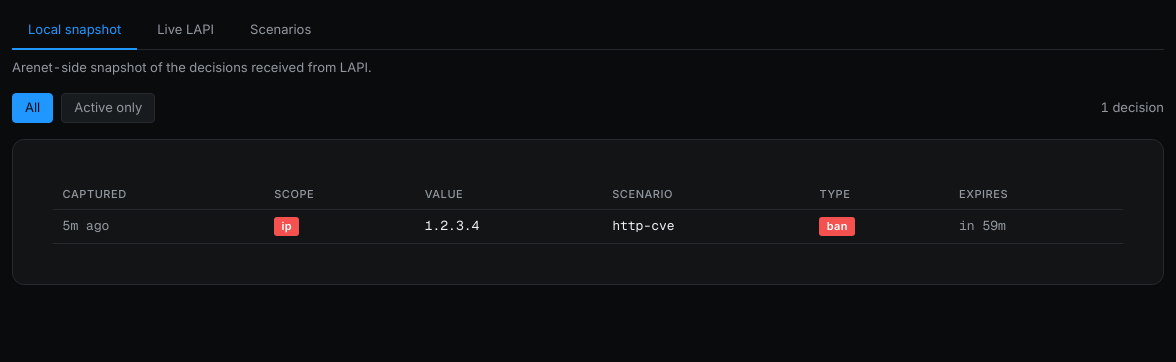
Scenario: CrowdSec decisions panel — Live LAPI tab › parses scenario "manual:<user>|<reason>" into two-line cell
Click the tab with test id "tab-live".
click(186, 31)  # box [141,12,230,50]
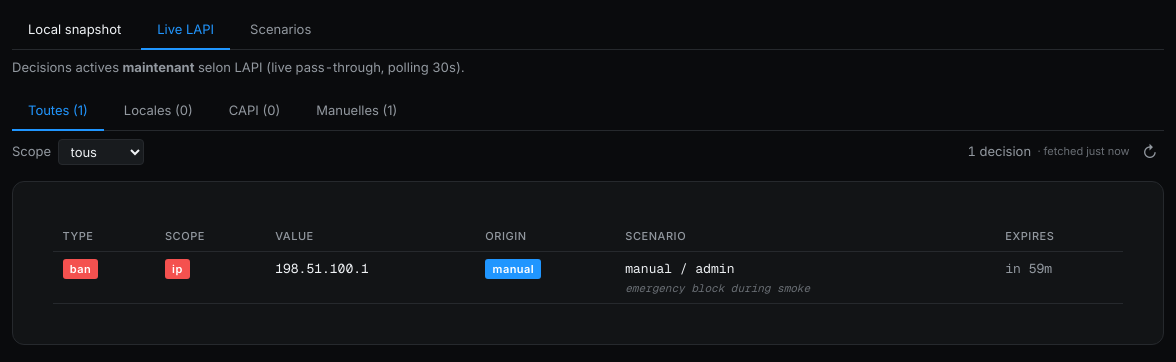
Expected: the text "198.51.100.1" is shown, [266,252,476,304]
Expected: the text with test id "manual-line1" reads "manual / admin", [625,260,734,276]
Expected: the text with test id "manual-line2" reads "emergency block during smoke", [625,281,810,295]
